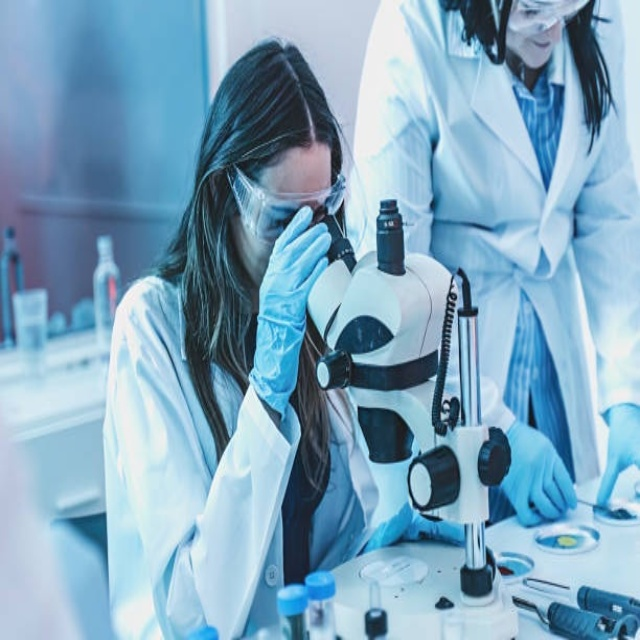Gafas: (225, 160, 347, 245), (507, 2, 593, 38)
Guantes: (248, 202, 335, 397), (495, 417, 577, 527), (592, 403, 638, 518)
Sin_mascara: (516, 35, 559, 69)
